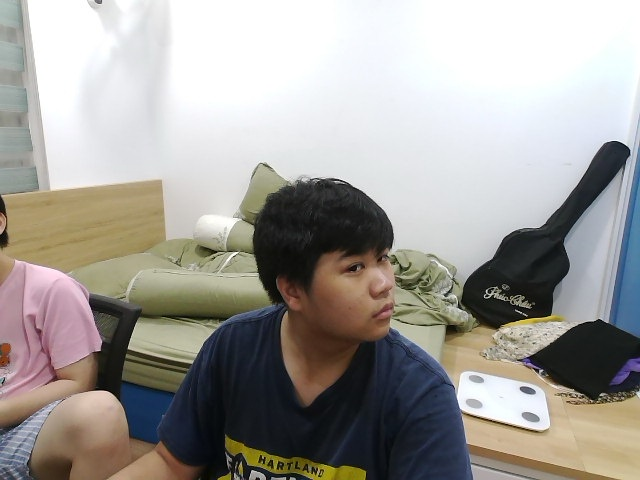face: (253, 177, 396, 343)
